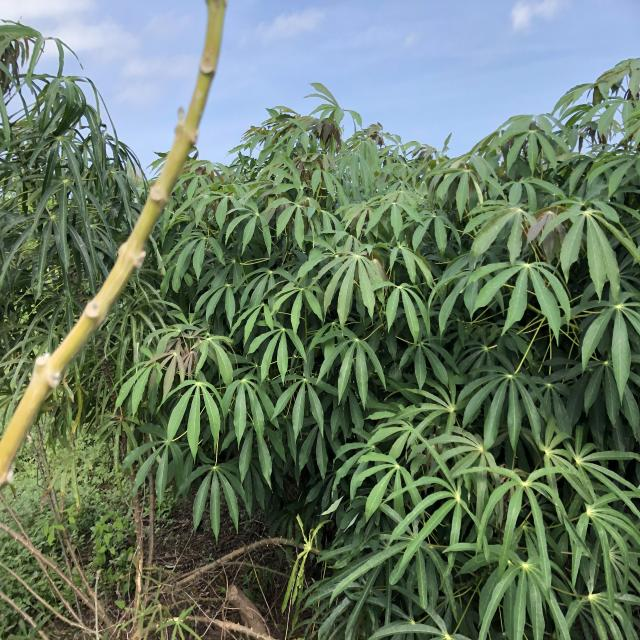Mosca: (223, 399, 239, 418), (455, 283, 471, 300), (72, 240, 90, 250), (234, 304, 245, 318), (370, 516, 379, 530)
